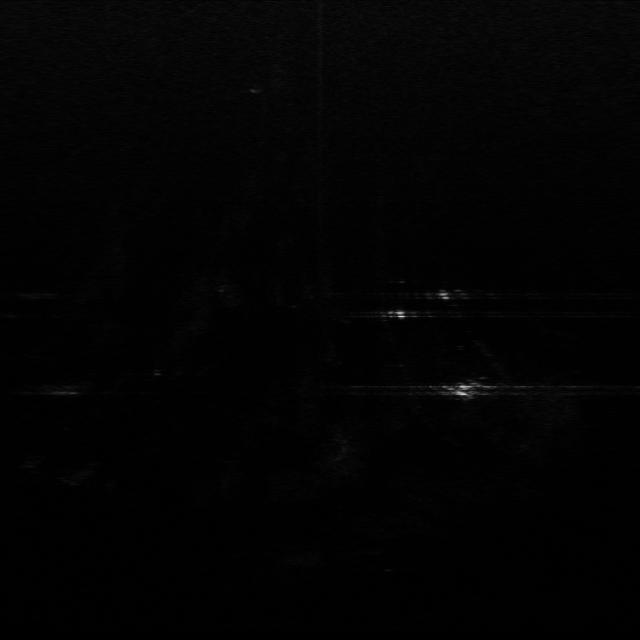rov: (444, 380, 494, 402)
